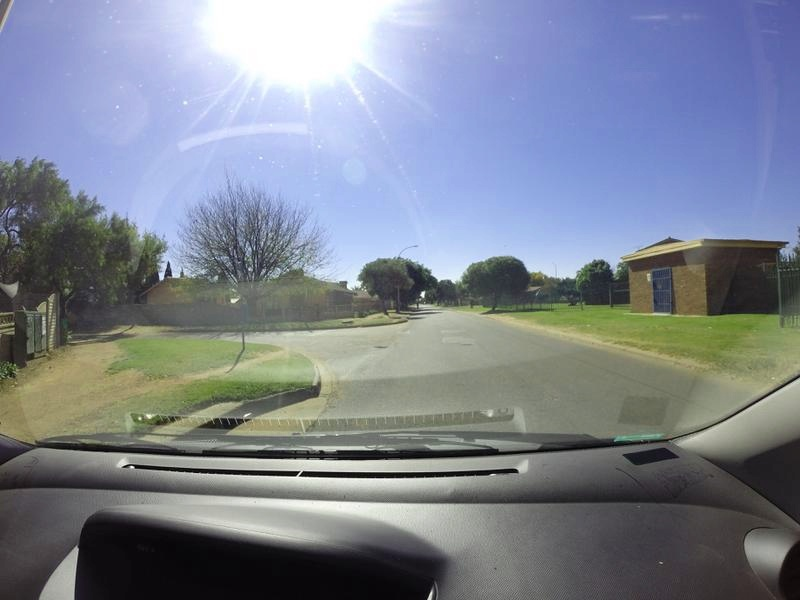pothole: (367, 341, 409, 350)
